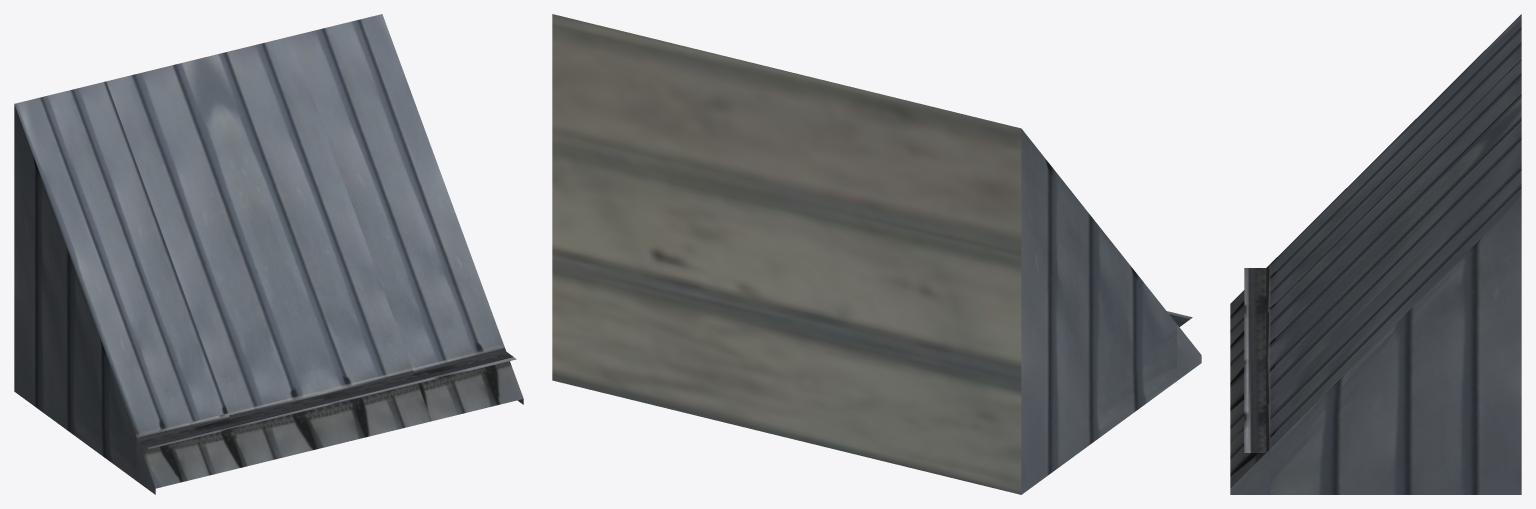
Rendered from yk_tosicoolkattoramppi.fbx.
3 views of the same model, side by side, from view 1: azimuth 30°, elevation 25°; view 2: azimuth 150°, elevation 25°; view 3: azimuth 270°, elevation 25° (orthographic). The views are drawn at different scales.
Parts seen in each view (by area): view 1: kaunis_kattoramppi; view 2: kaunis_kattoramppi; view 3: kaunis_kattoramppi.
Boxes of the visible parts, left/top/right/bottom form: kaunis_kattoramppi: left=14, top=14, right=523, bottom=494; kaunis_kattoramppi: left=552, top=14, right=1201, bottom=494; kaunis_kattoramppi: left=1230, top=14, right=1521, bottom=494.
Bounding box in the file's own units: 504 × 376 × 335.
